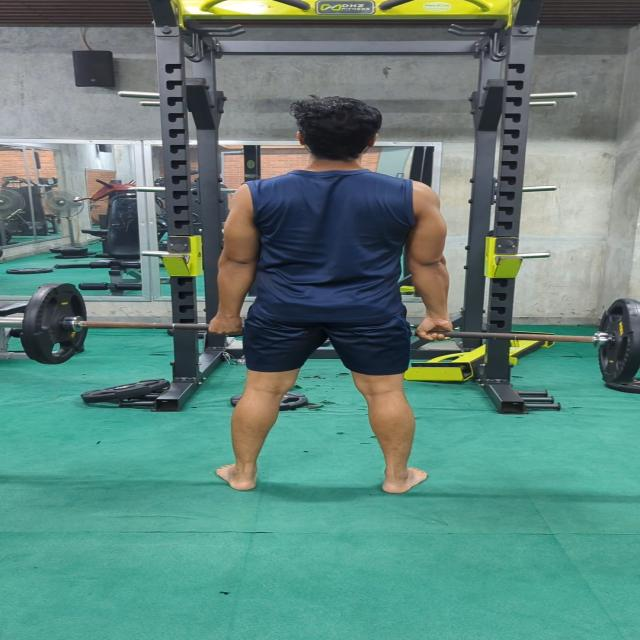Normal_Deadlifts: (205, 96, 456, 498)
